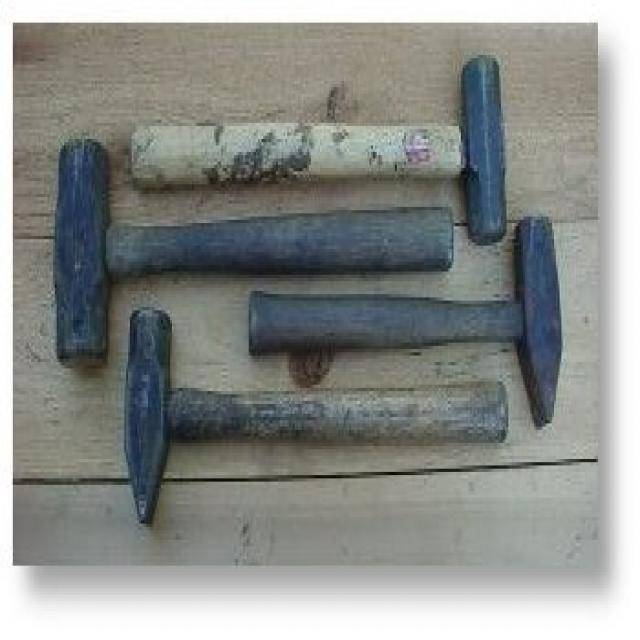hammer: (30, 126, 459, 357), (118, 34, 530, 266), (103, 304, 518, 526), (242, 209, 584, 439)
